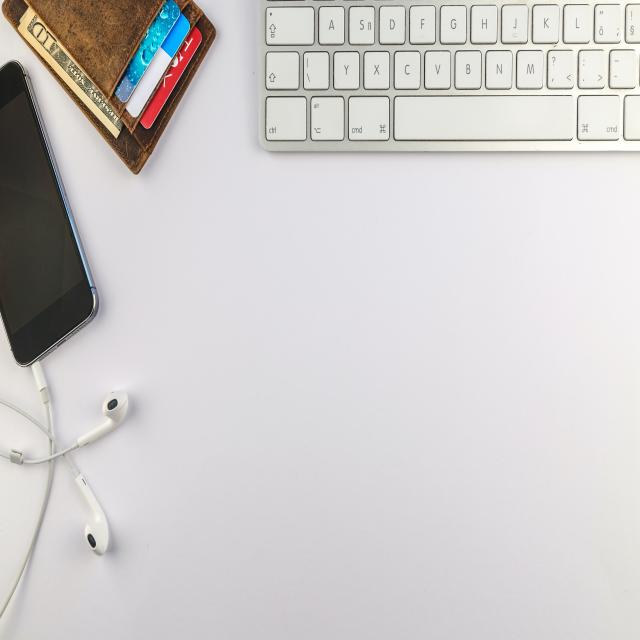Earphone: (0, 359, 129, 616)
